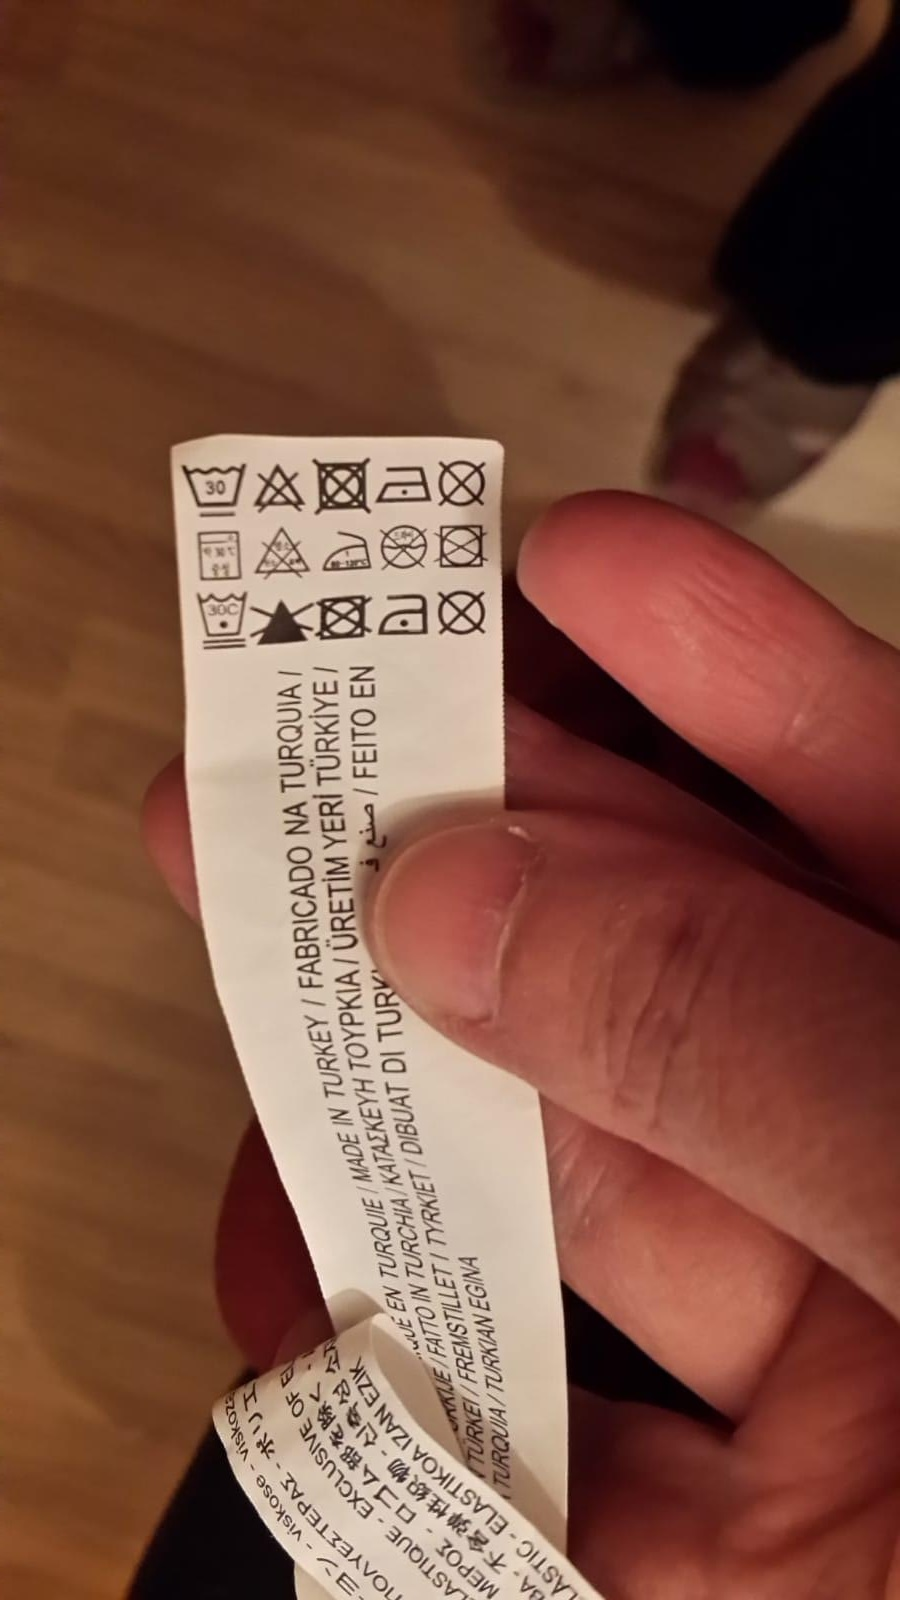do_not_bleach: (255, 527, 310, 577), (252, 464, 303, 514), (252, 602, 310, 645)
do_not_dry_clean: (436, 588, 488, 633), (436, 457, 484, 505), (378, 524, 424, 573)
